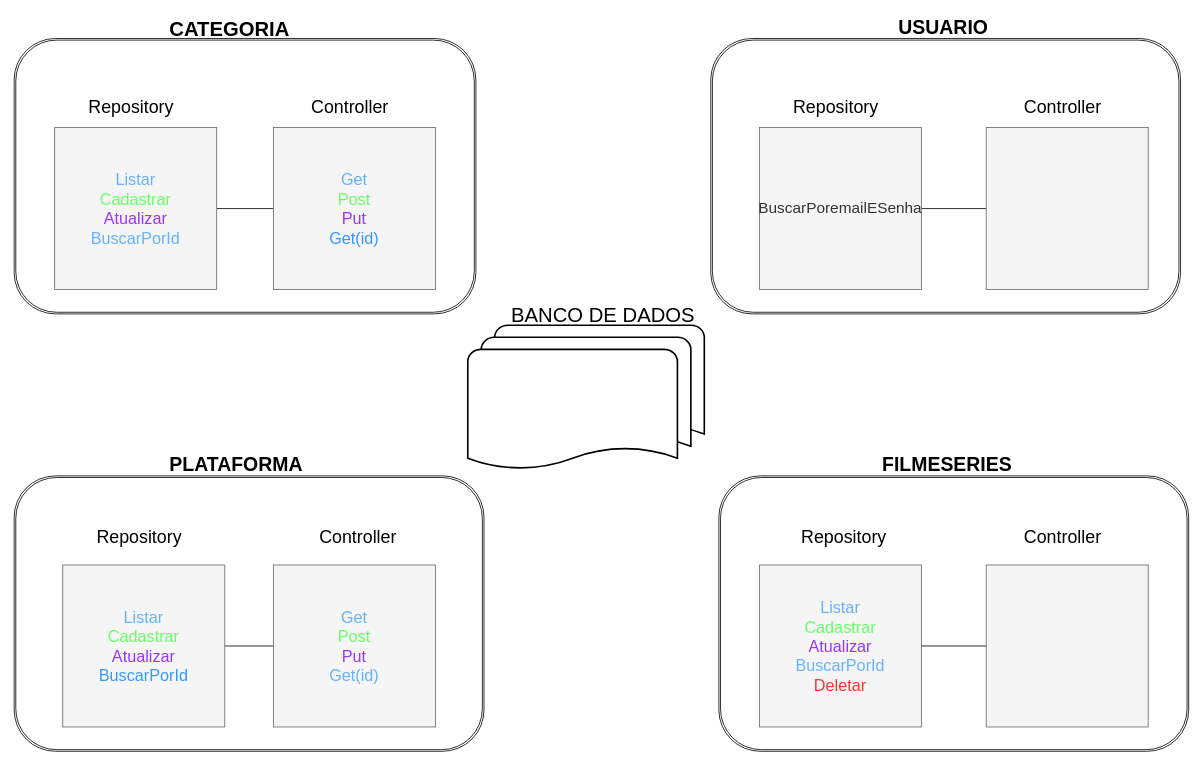
Some shapes in this 1203 by 765 pixel diagram are drawn without their labels. Each missing label, with the box of its shape:
Get Post Put Get(id) Delete: (985, 564, 1148, 727)
GET/SELECT POST/INSERT PUT/UPDATE DELETE/DELETE: (467, 324, 705, 471)
Login: (985, 127, 1148, 290)
